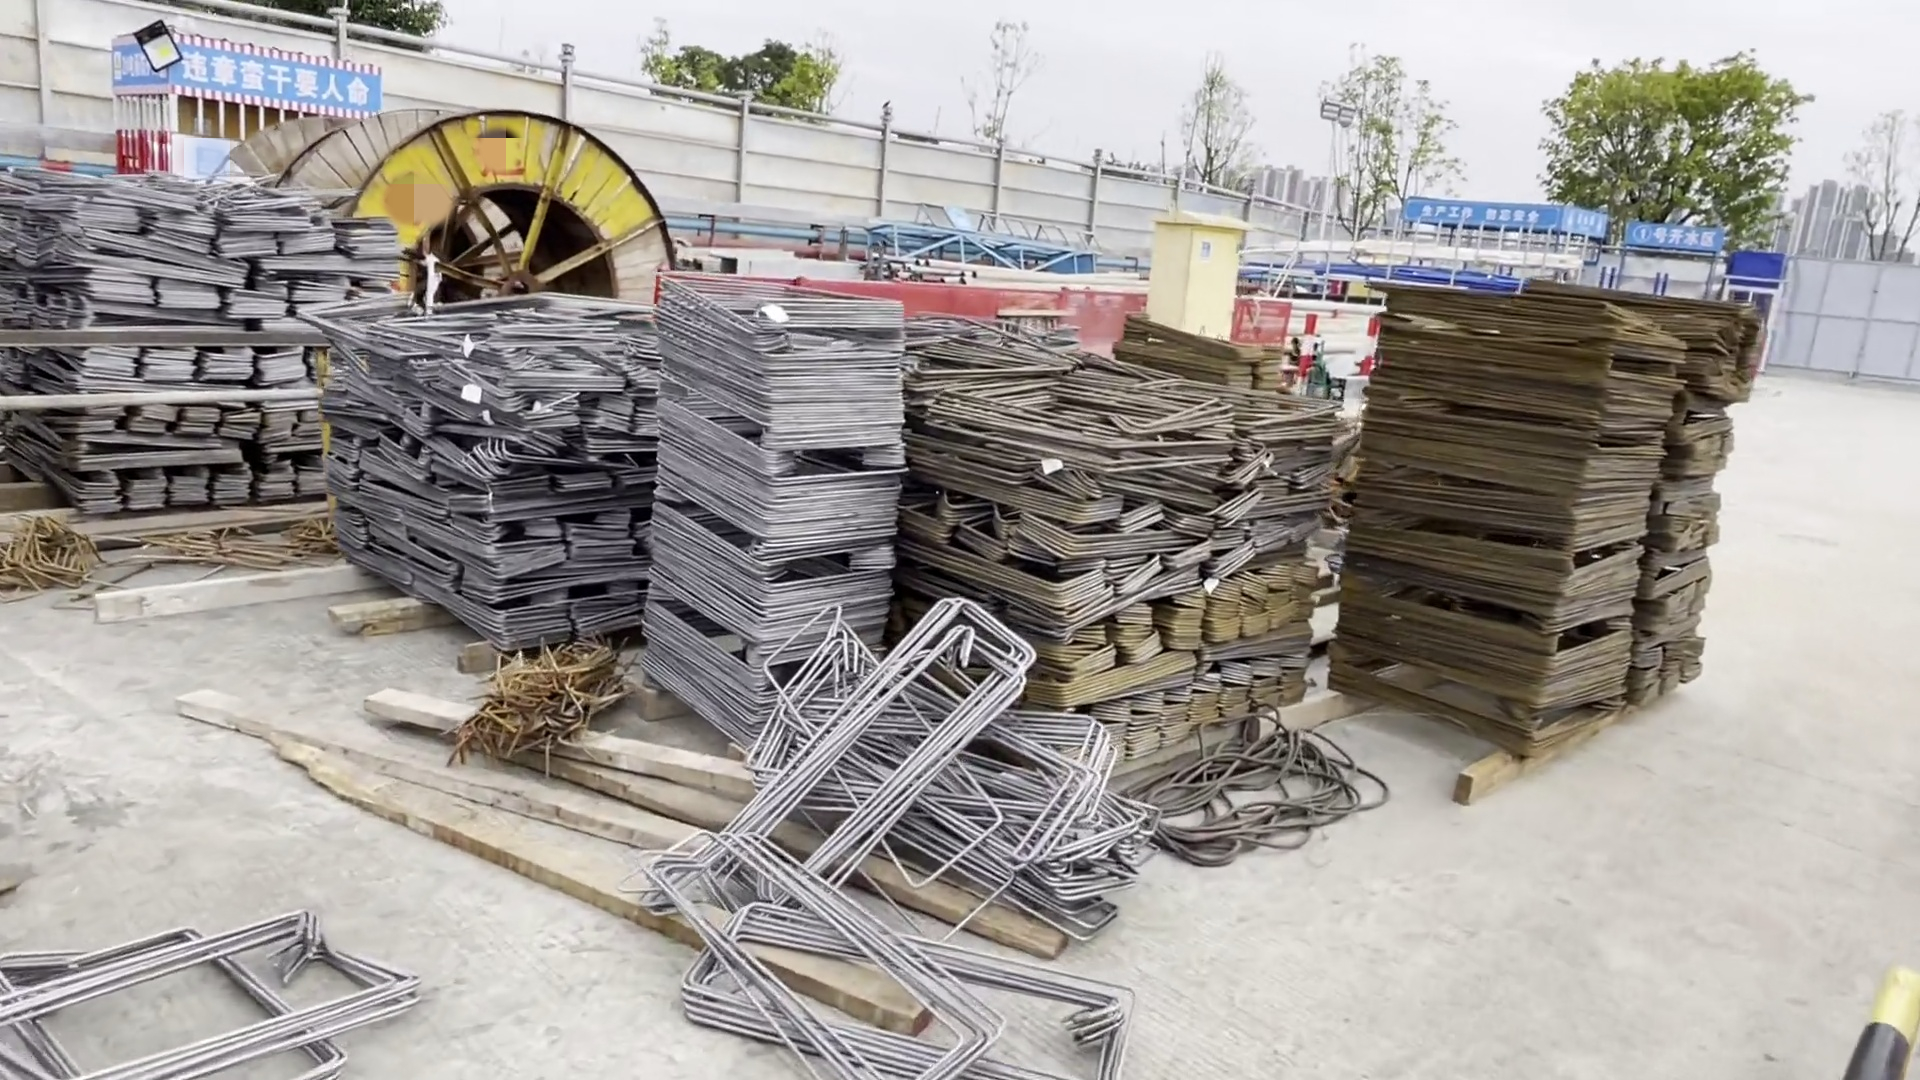ebox: (1149, 214, 1244, 344)
fence: (831, 280, 1139, 344)
slogan: (117, 28, 400, 113), (1404, 200, 1575, 233)
